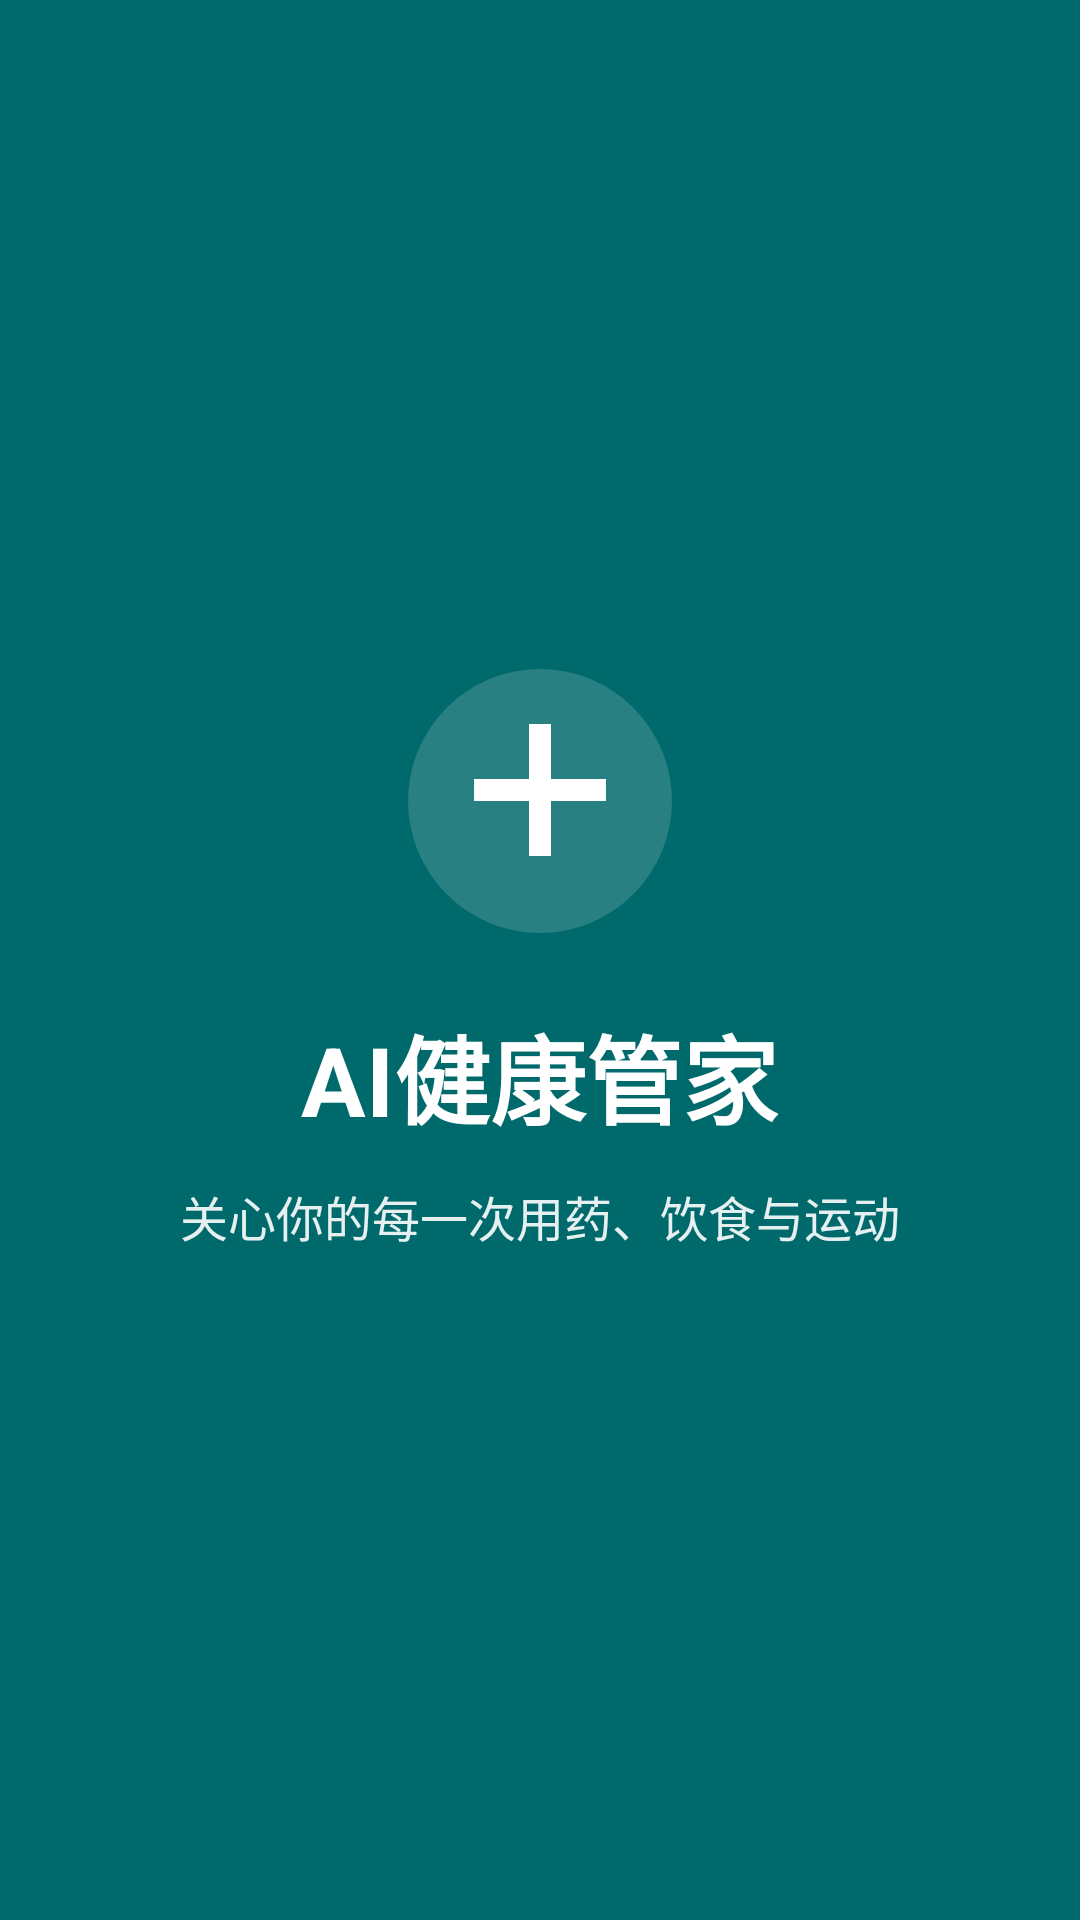

Named icons in this screenshot (1080px×1920px) and their centers, (x=x, y=y):
health mark: (x=540, y=801)
